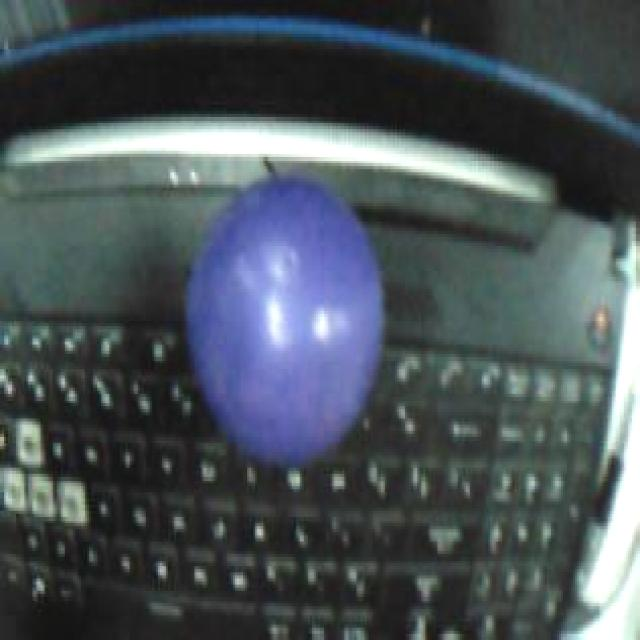BallPurple: (184, 174, 384, 468)
